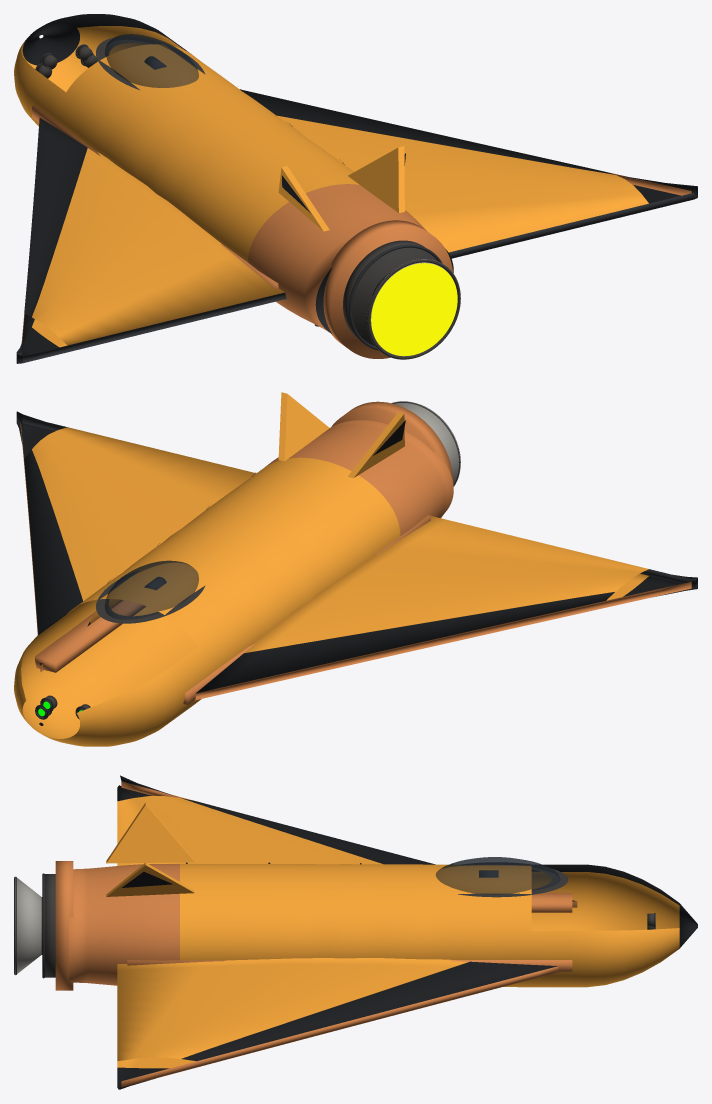
The model's file is Ship_Longwing_9.glb.
3 renders of one model, top to bottom at view 1: azimuth 30°, elevation 25°; view 2: azimuth 150°, elevation 25°; view 3: azimuth 270°, elevation 25°, orthographic. The views are drawn at different scales.
Visible parts, largest first — view 1: Fuselage_OrganicEllipsoidTaperedBody_BakedPaint, Wing_Left_LongDeltaAerofoil_BakedPaint, Wing_Right_LongDeltaAerofoil_BakedPaint, EngineEmitter, AftCollar_IntegratedSingleEngineBand, CanopyGlass_LowInsetDome, EngineBlock_AftDarkSingleEngineHousing, TailFin_Right_CantedStabilizer, EngineLip_Center_DarkWideRim, CanopyFrame_DorsalOvalRim, TailFin_Left_CantedStabilizer, WingRoot_Left_EmbeddedShoulder (+1 smaller); view 2: Fuselage_OrganicEllipsoidTaperedBody_BakedPaint, Wing_Left_LongDeltaAerofoil_BakedPaint, Wing_Right_LongDeltaAerofoil_BakedPaint, CanopyGlass_LowInsetDome, WingRoot_Right_EmbeddedShoulder, AftCollar_IntegratedSingleEngineBand, TailFin_Right_CantedStabilizer, EngineBell_Center_BroadBurnishedNozzle, CanopyFrame_DorsalOvalRim, TailFin_Left_CantedStabilizer, WingRoot_Left_EmbeddedShoulder; view 3: Fuselage_OrganicEllipsoidTaperedBody_BakedPaint, Wing_Right_LongDeltaAerofoil_BakedPaint, Wing_Left_LongDeltaAerofoil_BakedPaint, CanopyGlass_LowInsetDome, TailFin_Left_CantedStabilizer, AftCollar_IntegratedSingleEngineBand, EngineBell_Center_BroadBurnishedNozzle, TailFin_Right_CantedStabilizer, EngineBlock_AftDarkSingleEngineHousing, WingRoot_Right_EmbeddedShoulder, CanopyFrame_DorsalOvalRim, WingRoot_Left_EmbeddedShoulder.
Part boxes in pixels (bbox=[...]): Fuselage_OrganicEllipsoidTaperedBody_BakedPaint: bbox=[14, 14, 453, 333]; Wing_Left_LongDeltaAerofoil_BakedPaint: bbox=[16, 117, 286, 363]; Wing_Right_LongDeltaAerofoil_BakedPaint: bbox=[240, 89, 697, 258]; EngineEmitter: bbox=[371, 263, 457, 356]; AftCollar_IntegratedSingleEngineBand: bbox=[323, 220, 452, 358]; CanopyGlass_LowInsetDome: bbox=[104, 34, 198, 87]; EngineBlock_AftDarkSingleEngineHousing: bbox=[343, 240, 436, 345]; TailFin_Right_CantedStabilizer: bbox=[348, 146, 404, 212]; EngineLip_Center_DarkWideRim: bbox=[367, 259, 460, 359]; CanopyFrame_DorsalOvalRim: bbox=[96, 37, 205, 89]; TailFin_Left_CantedStabilizer: bbox=[278, 166, 329, 231]; WingRoot_Left_EmbeddedShoulder: bbox=[32, 105, 278, 288]; Fuselage_OrganicEllipsoidTaperedBody_BakedPaint: bbox=[14, 420, 453, 746]; Wing_Left_LongDeltaAerofoil_BakedPaint: bbox=[194, 516, 697, 700]; Wing_Right_LongDeltaAerofoil_BakedPaint: bbox=[16, 411, 255, 672]; CanopyGlass_LowInsetDome: bbox=[105, 560, 198, 619]; WingRoot_Right_EmbeddedShoulder: bbox=[35, 600, 145, 672]; AftCollar_IntegratedSingleEngineBand: bbox=[331, 401, 453, 517]; TailFin_Right_CantedStabilizer: bbox=[278, 392, 329, 461]; EngineBell_Center_BroadBurnishedNozzle: bbox=[391, 401, 460, 486]; CanopyFrame_DorsalOvalRim: bbox=[96, 571, 205, 623]; TailFin_Left_CantedStabilizer: bbox=[347, 412, 404, 477]; WingRoot_Left_EmbeddedShoulder: bbox=[183, 515, 430, 704]; Fuselage_OrganicEllipsoidTaperedBody_BakedPaint: bbox=[69, 864, 697, 987]; Wing_Right_LongDeltaAerofoil_BakedPaint: bbox=[117, 958, 560, 1089]; Wing_Left_LongDeltaAerofoil_BakedPaint: bbox=[117, 775, 577, 907]; CanopyGlass_LowInsetDome: bbox=[436, 857, 560, 894]; TailFin_Left_CantedStabilizer: bbox=[106, 802, 194, 863]; AftCollar_IntegratedSingleEngineBand: bbox=[55, 861, 73, 990]; EngineBell_Center_BroadBurnishedNozzle: bbox=[15, 877, 41, 974]; TailFin_Right_CantedStabilizer: bbox=[106, 862, 194, 896]; EngineBlock_AftDarkSingleEngineHousing: bbox=[45, 874, 55, 977]; WingRoot_Right_EmbeddedShoulder: bbox=[127, 959, 572, 971]; CanopyFrame_DorsalOvalRim: bbox=[458, 863, 568, 897]; WingRoot_Left_EmbeddedShoulder: bbox=[531, 892, 572, 912].
Size of the model in its own units: 7.22 by 1.71 by 6.86.
